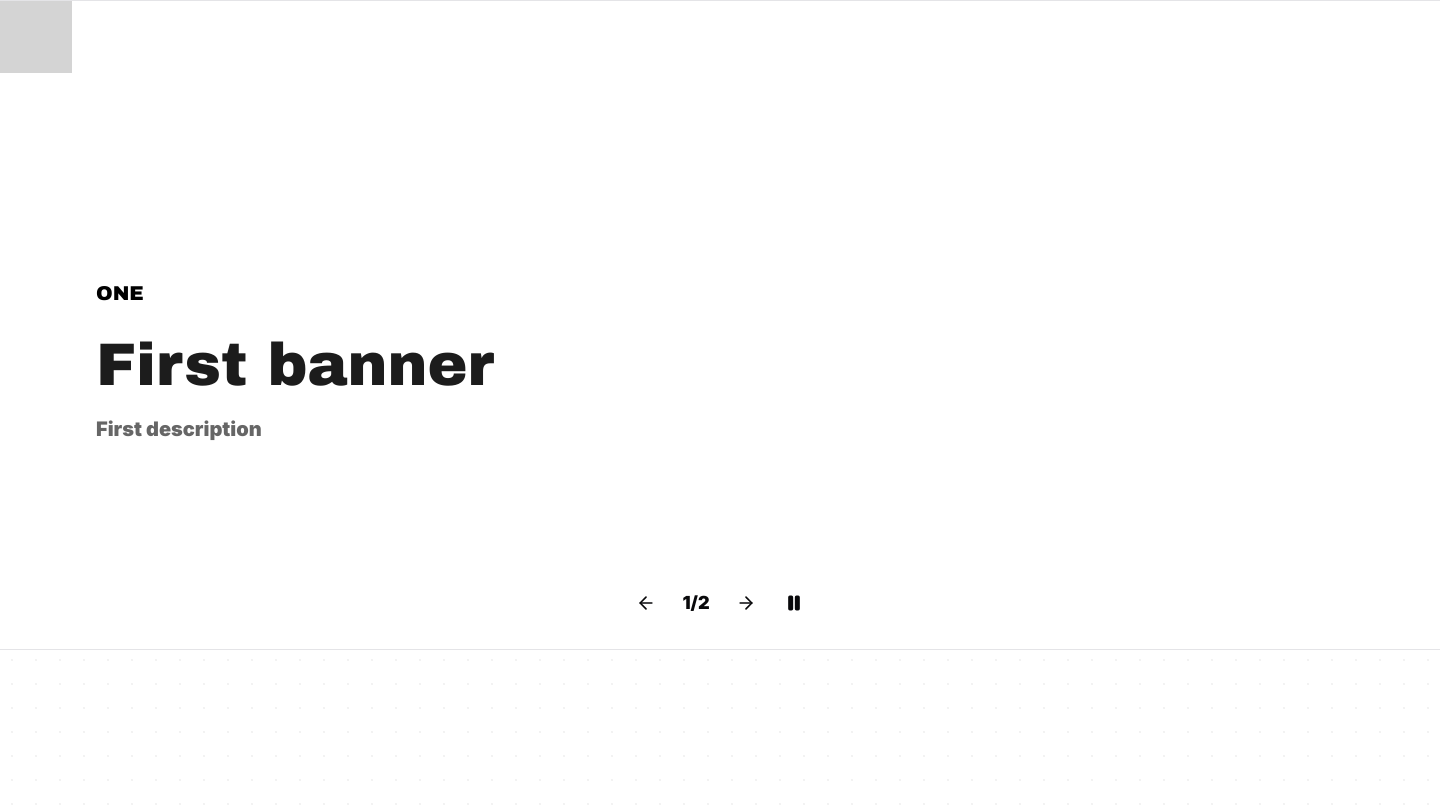
Test: HomeFeatureBanner › renders carousel controls only for multiple banners
Check: the text "1/2" is shown, box [682,592,710,613]
Click the button named "Next banner". click: (746, 603)
box: [724,581,768,625]
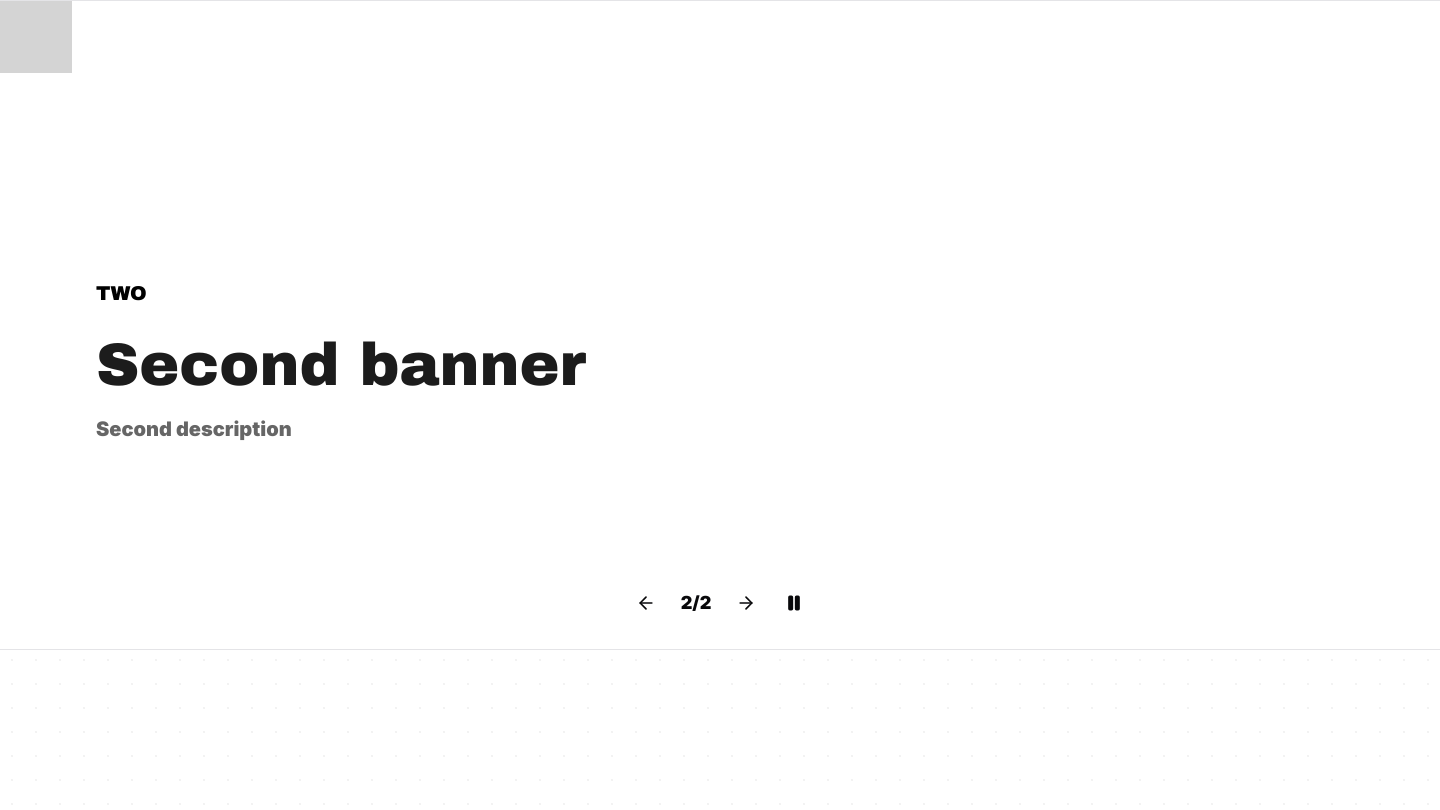
Check: the text "2/2" is shown, box [681,592,711,613]
Click the button named "Previous banner". click: (646, 603)
box: [624,581,668,625]
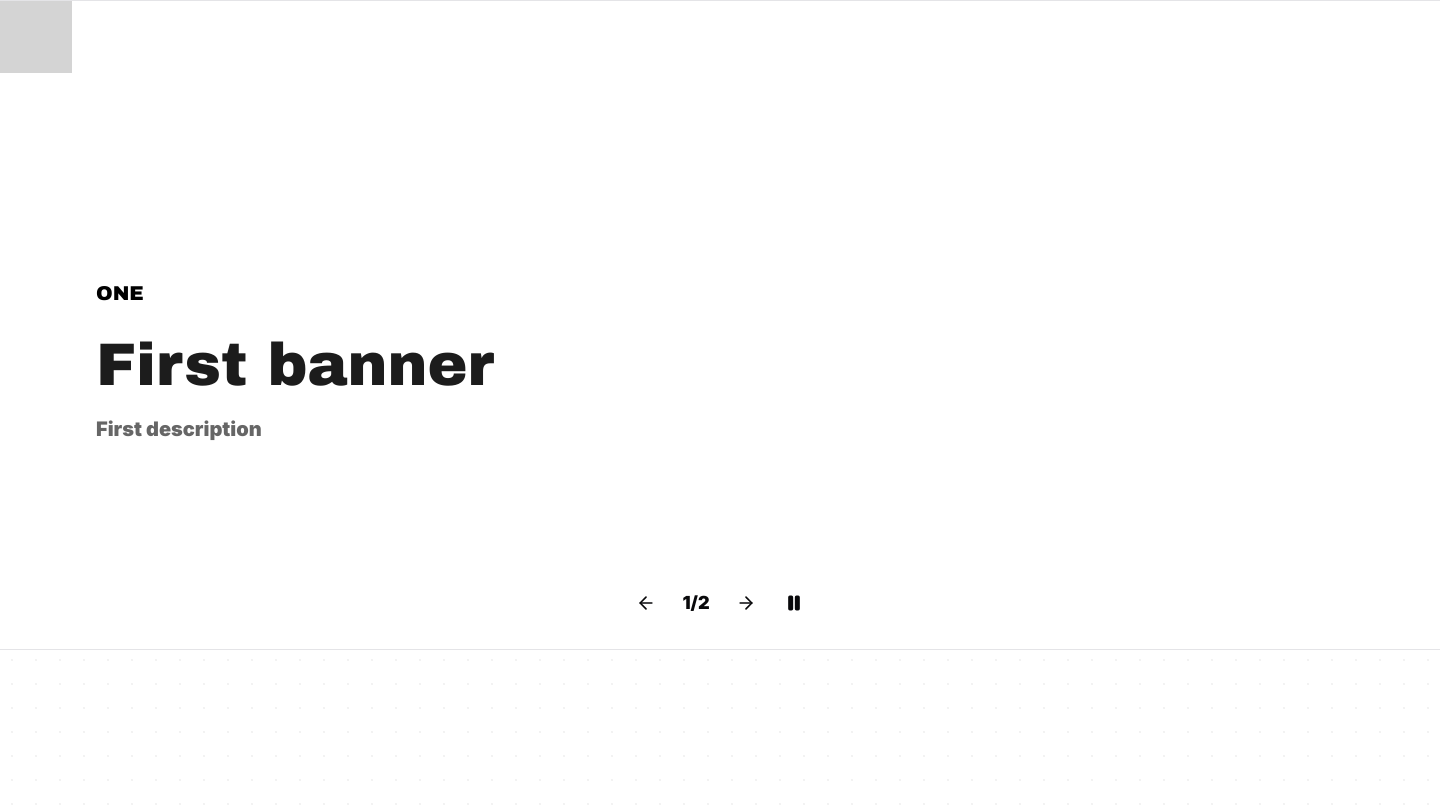
Check: the text "1/2" is shown, box [682,592,710,613]
